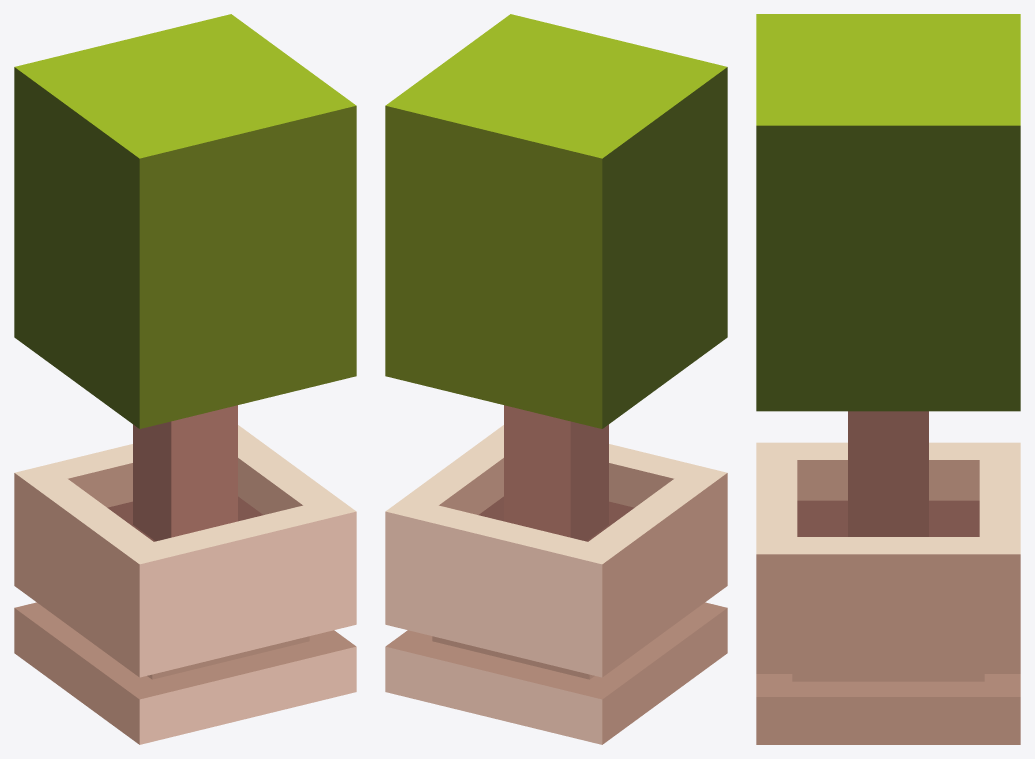
File: office-plant.glb
3 renders of one model, left to right at view 1: azimuth 30°, elevation 25°; view 2: azimuth 150°, elevation 25°; view 3: azimuth 270°, elevation 25°, orthographic. The views are drawn at different scales.
Visible parts, largest first — view 1: REFERENCE.001; view 2: REFERENCE.001; view 3: REFERENCE.001.
Part boxes in pixels (box(x1,y1,x2,y2)): REFERENCE.001: box(14, 14, 356, 744); REFERENCE.001: box(385, 14, 727, 744); REFERENCE.001: box(756, 14, 1020, 744).
Bounding box in the file's own units: 0.5035 × 1.3 × 0.5035.
1 material, 1 textured.
